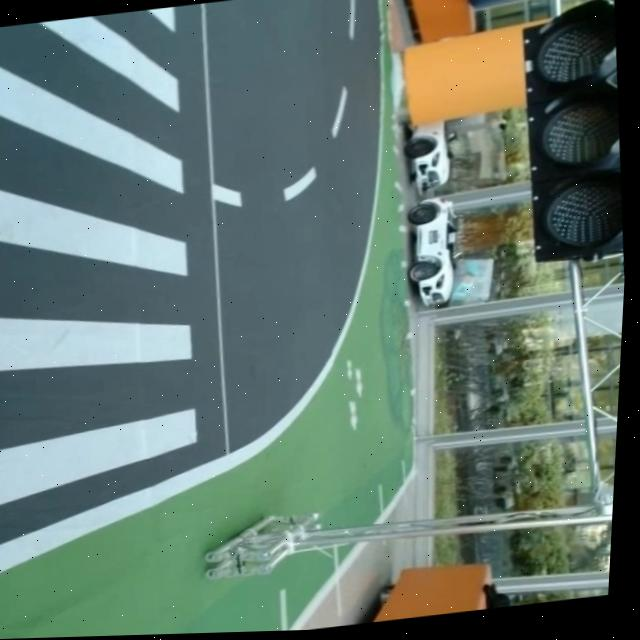traffic-light: (502, 0, 637, 274)
